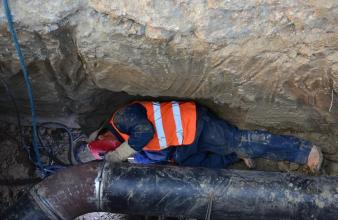fall: (89, 94, 317, 170)
